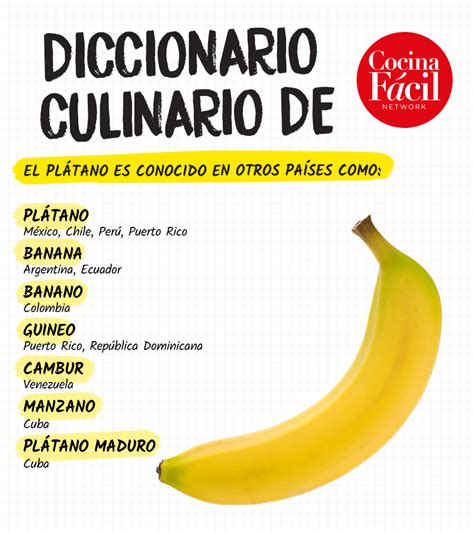banana: (152, 243, 445, 509)
